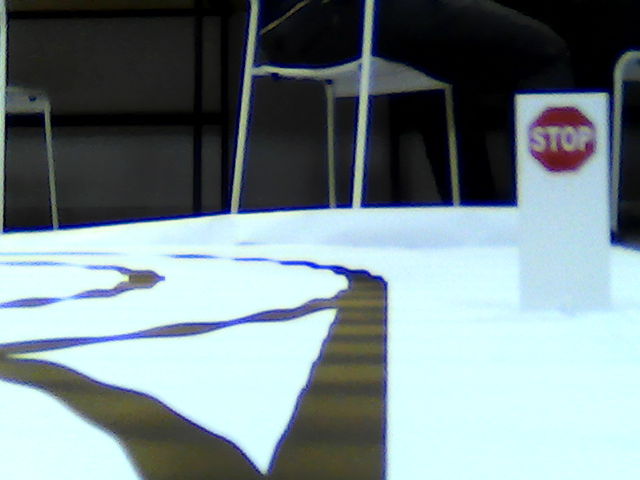Stop: (525, 107, 596, 172)
